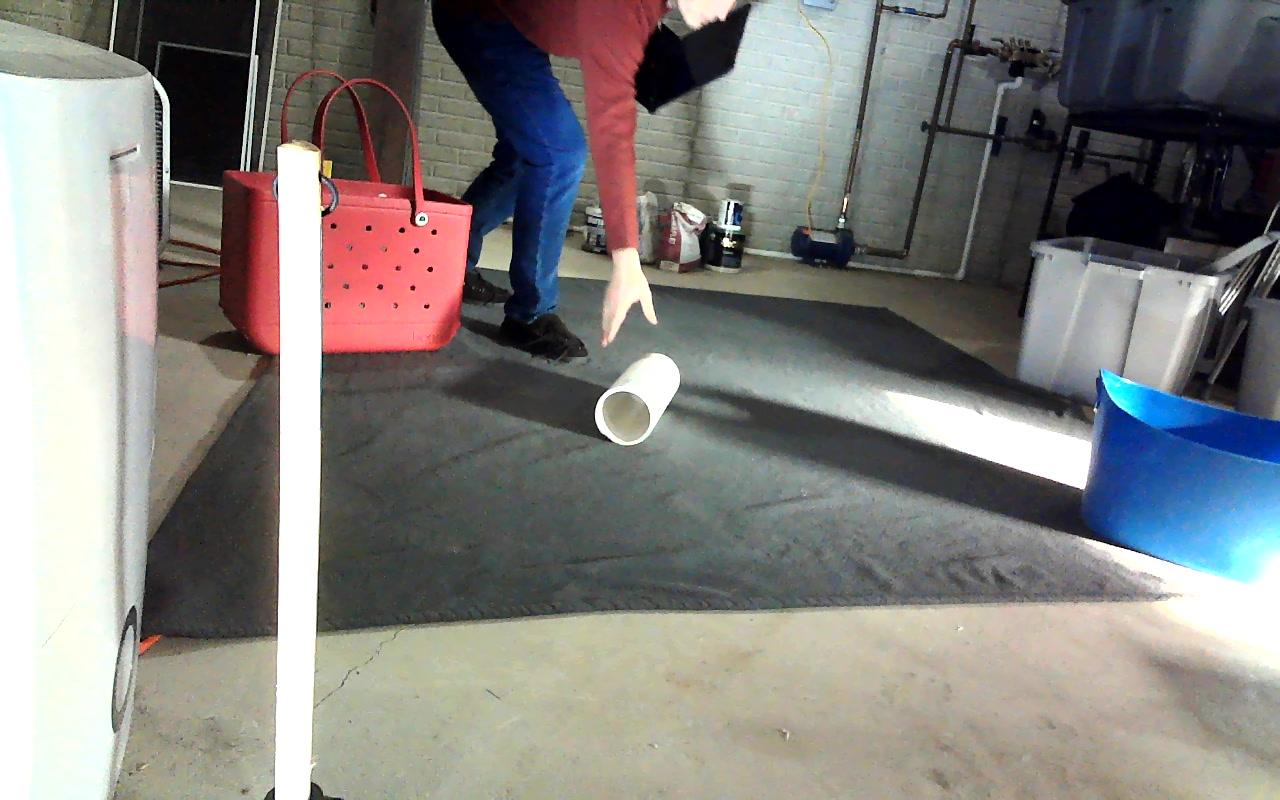coral: (595, 353, 681, 446)
